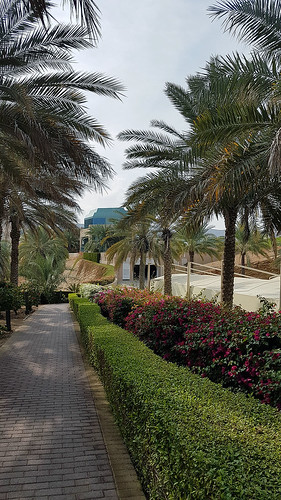building: (74, 207, 120, 258)
sky: (85, 1, 214, 101)
vegetation: (111, 60, 281, 462), (1, 1, 95, 281)
